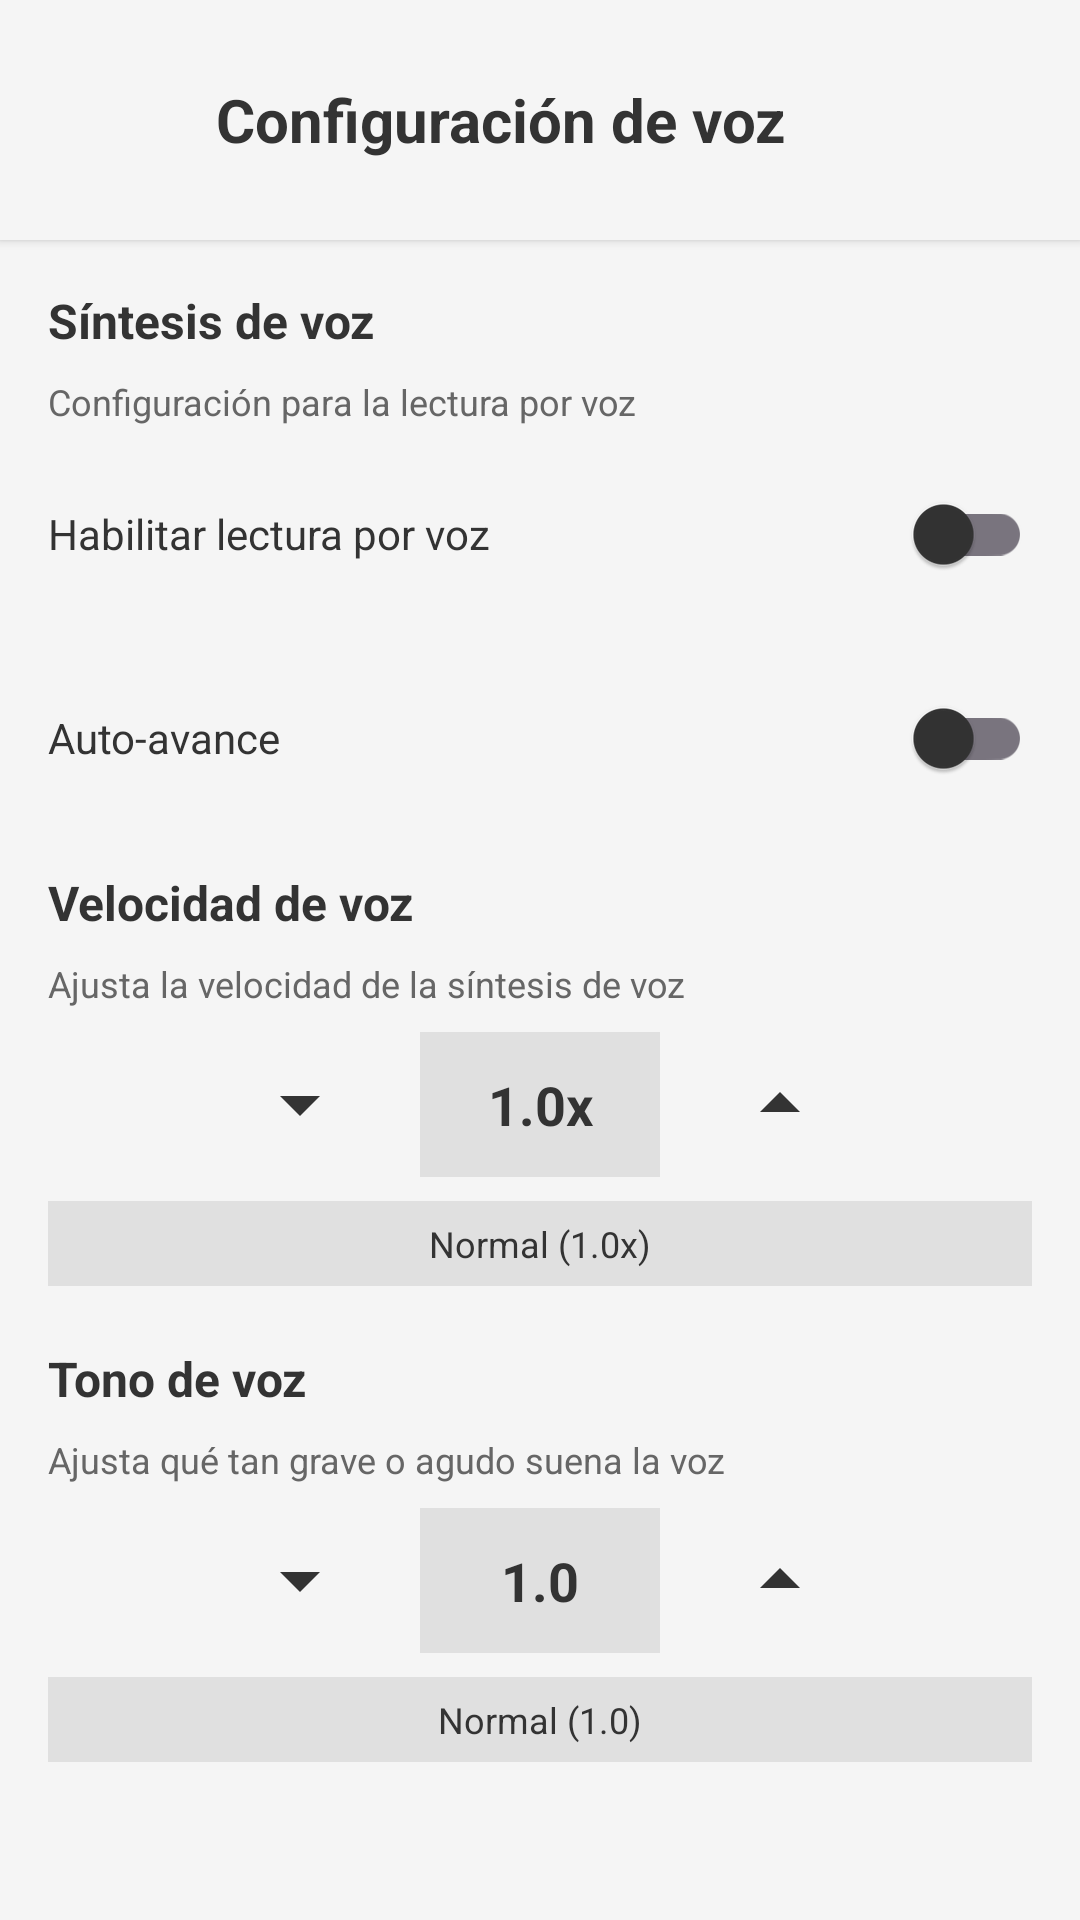

Named icons in this screenshot (1080px x 1920px) and their centers, point (x, y):
Decrease TTS pitch: point (300, 1582)
Decrease TTS speed: point (300, 1106)
Increase TTS pitch: point (780, 1578)
Increase TTS speed: point (780, 1102)
